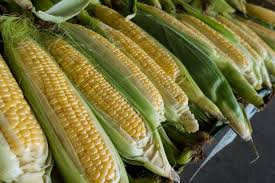milho: (6, 21, 271, 109)
